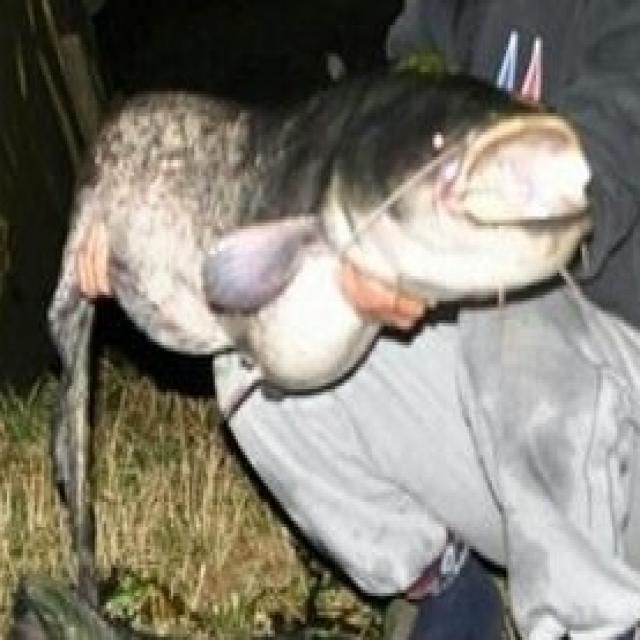Catfish: (26, 42, 607, 567)
